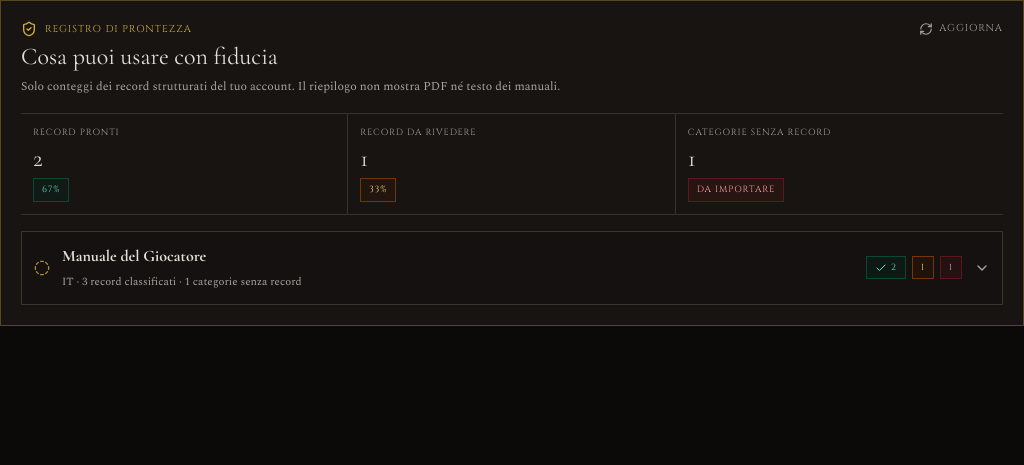
Test case: LibraryCoverageReadiness › summarises private coverage and opens only existing review records
Step 1. Click the button that starts with "Manuale del Giocatore" → (134, 256), box left=22, top=232, right=1002, bottom=304
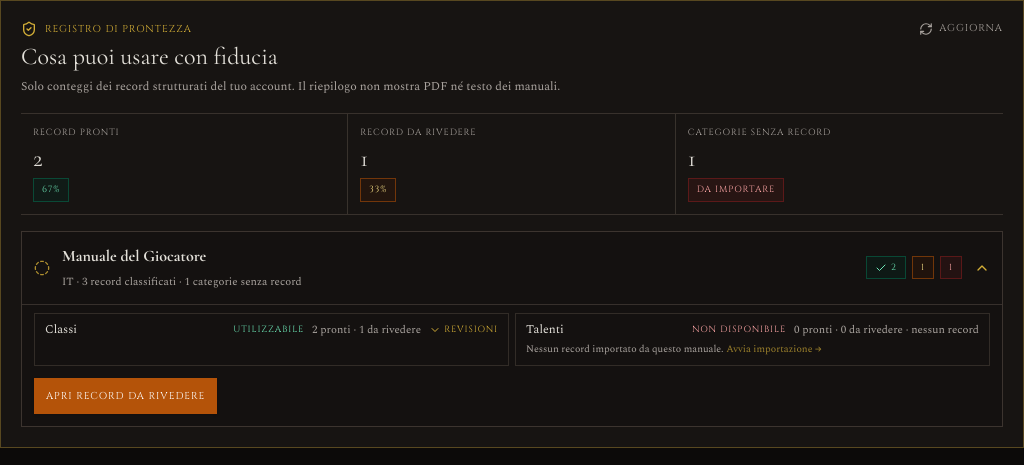
Result: the text "UTILIZZABILE" is shown at left=233, top=323, right=304, bottom=336
Result: the text "Talenti" is shown at left=526, top=320, right=564, bottom=339
Result: the text "NON DISPONIBILE" is shown at left=692, top=323, right=786, bottom=336
